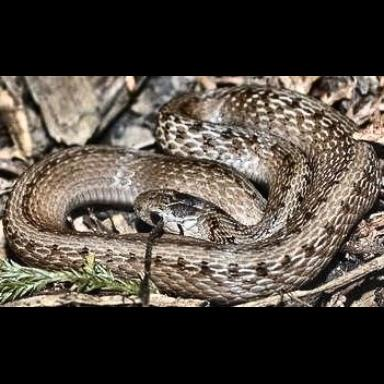snake: (4, 88, 384, 298)
